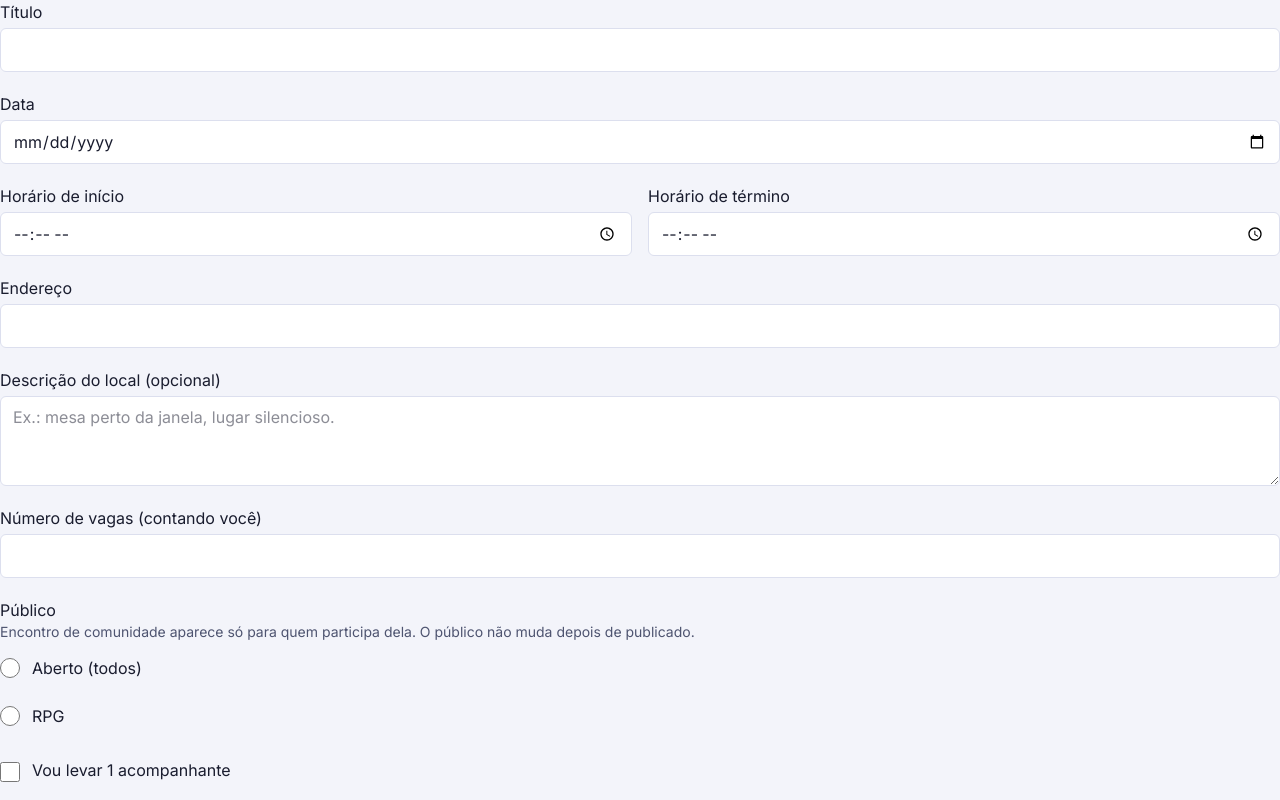
Test: tela /encontros/novo › recusa o envio sem público e mostra o que falta
In the field labelled "Título": coordinates (640, 50) [0,28,1279,72], type "Café no centro"
In the date field labelled "Data": coordinates (640, 142) [0,120,1279,164], type "2026-12-05"
In the time field labelled "Horário de início": coordinates (316, 234) [0,212,632,256], type "15:00"
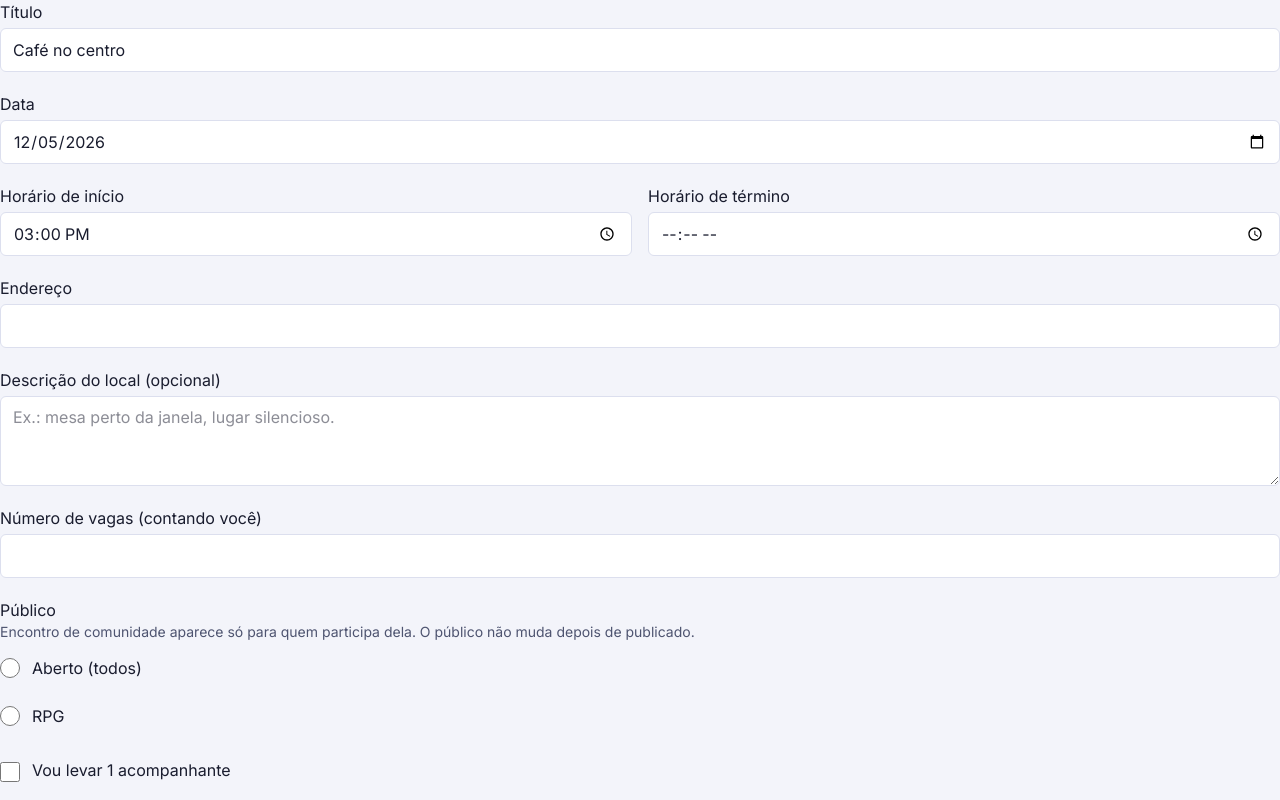
In the time field labelled "Horário de término": coordinates (964, 234) [648,212,1279,256], type "17:00"
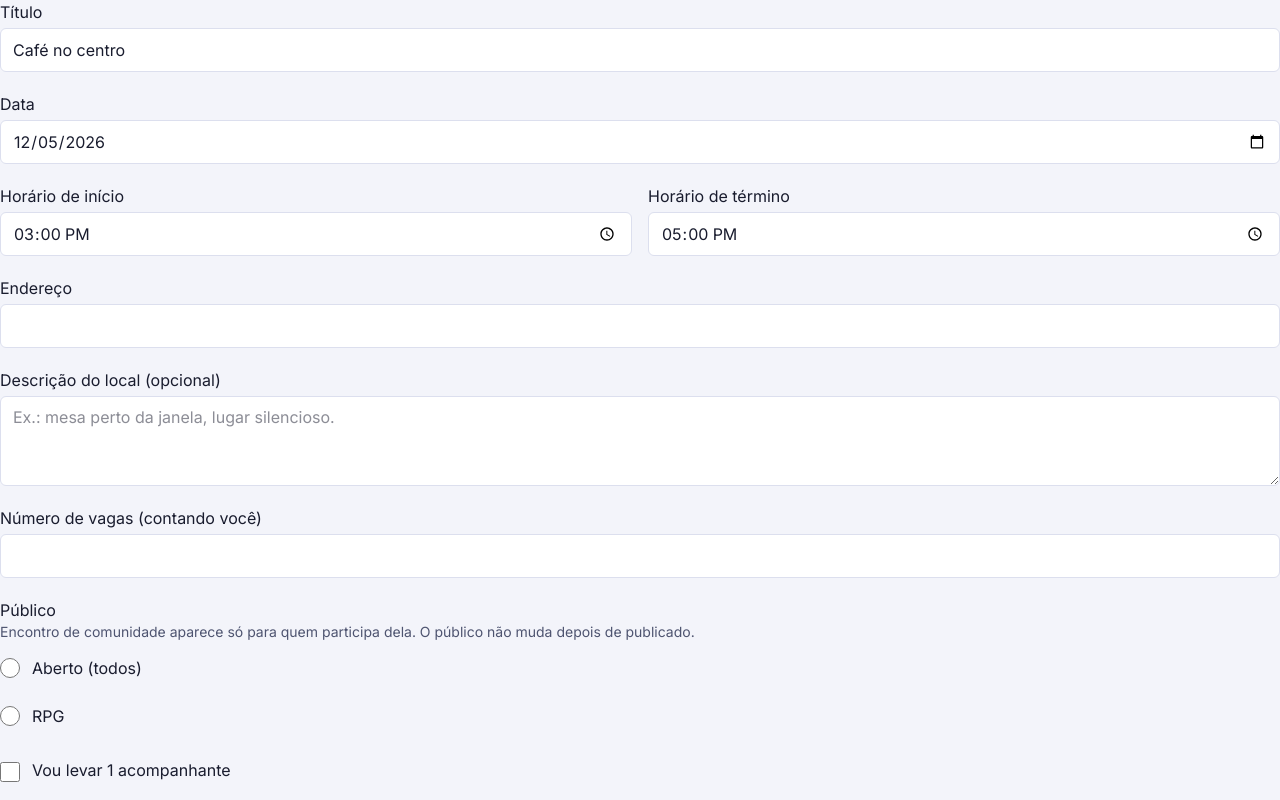
In the field labelled "Endereço": coordinates (640, 326) [0,304,1279,348], type "Rua X, 100"
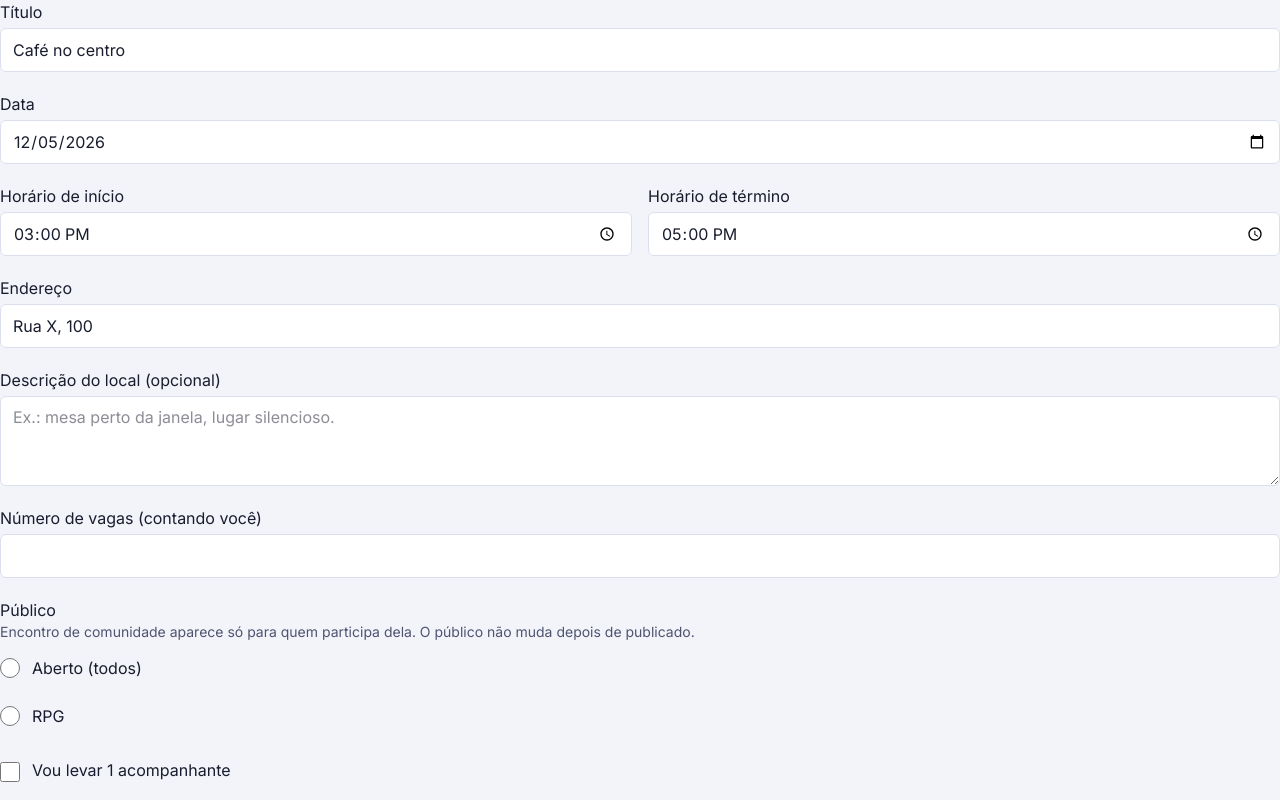
In the number field labelled "Número de vagas (contando você)": coordinates (640, 556) [0,534,1279,578], type "10"
(page scrolled)
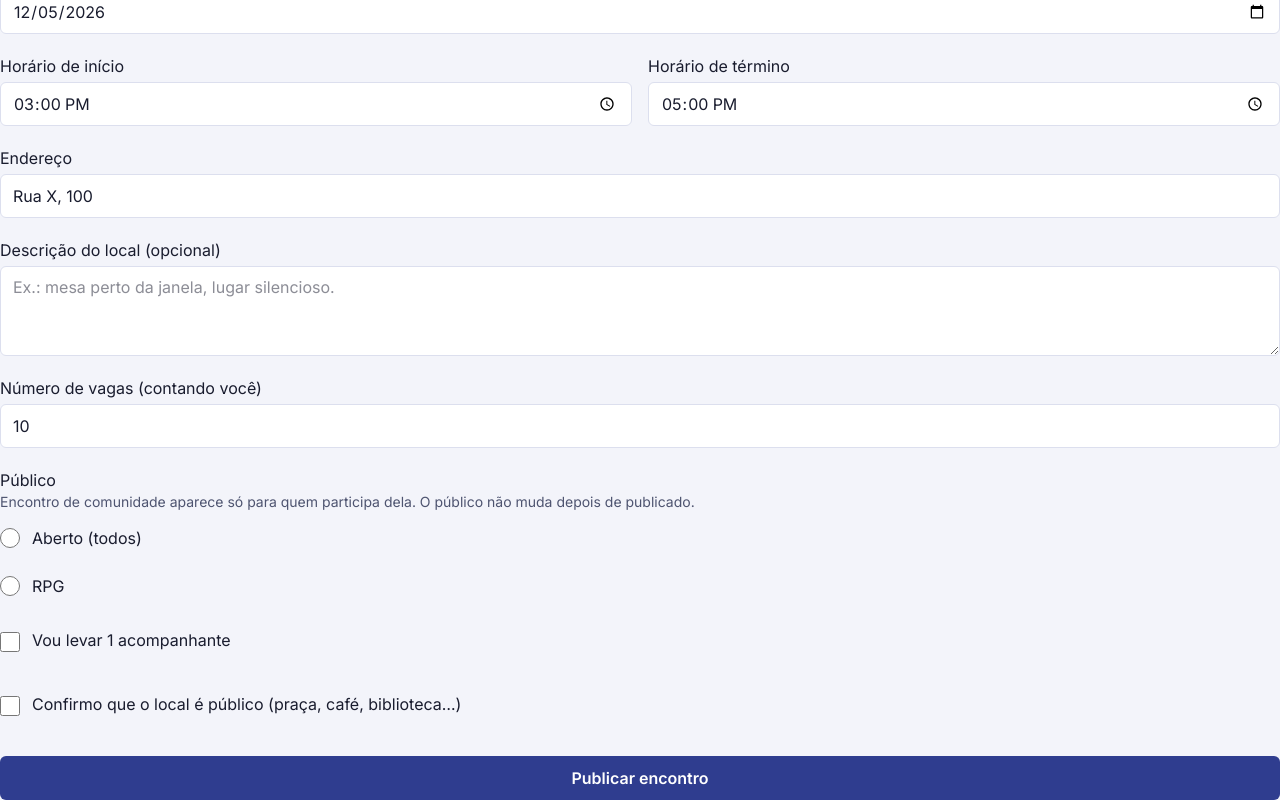
Click the checkbox labelled "Confirmo que o local é público (praça, café, biblioteca…)": coordinates (10, 706) [0,696,20,716]
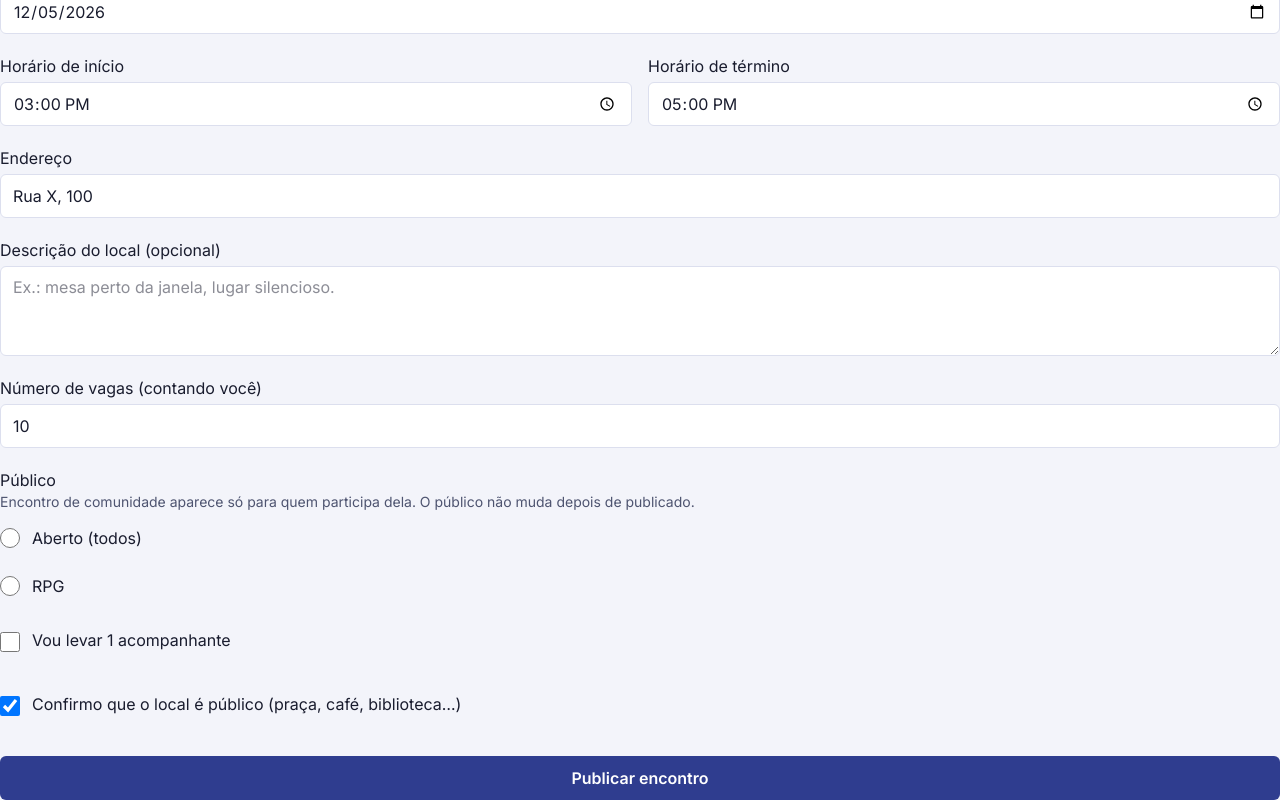
Click the button "Publicar encontro": coordinates (640, 778) [0,756,1279,799]
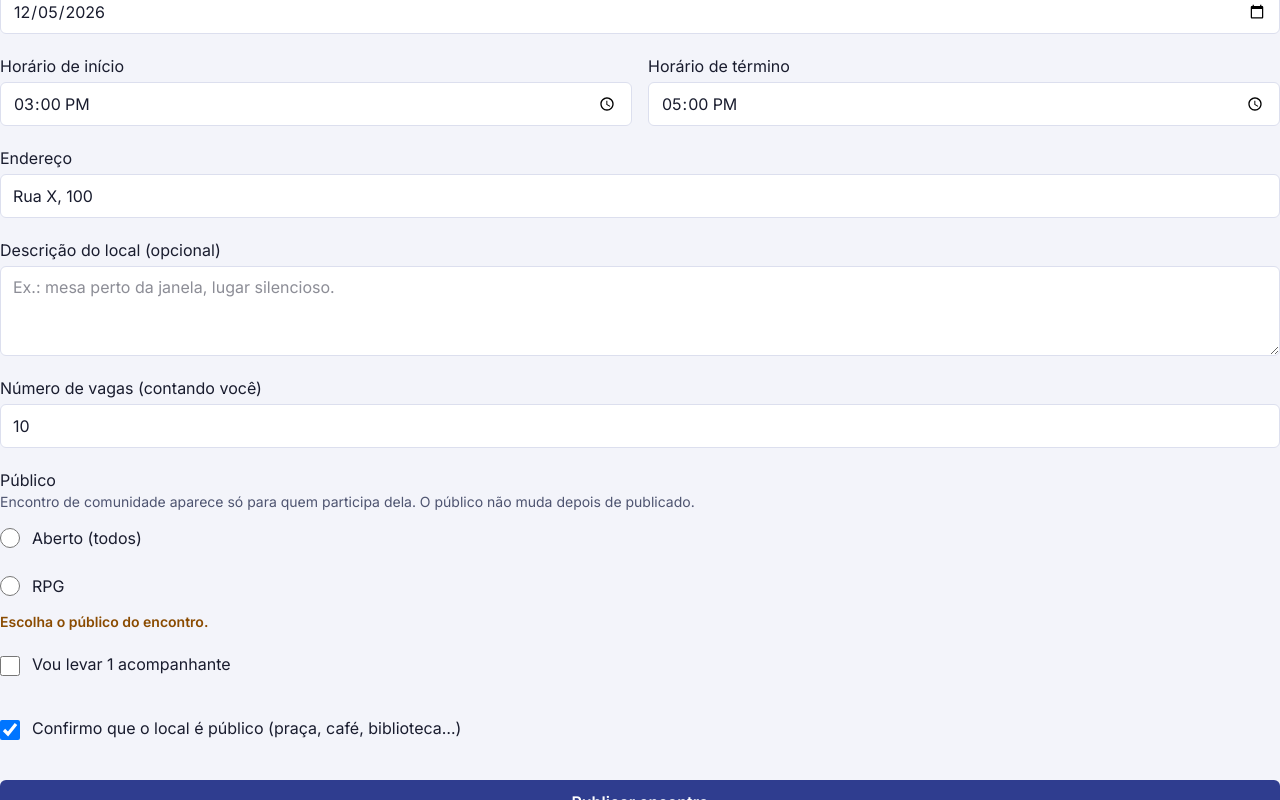
Now the text "Escolha o público do encontro." is shown, box [0,613,208,630]
